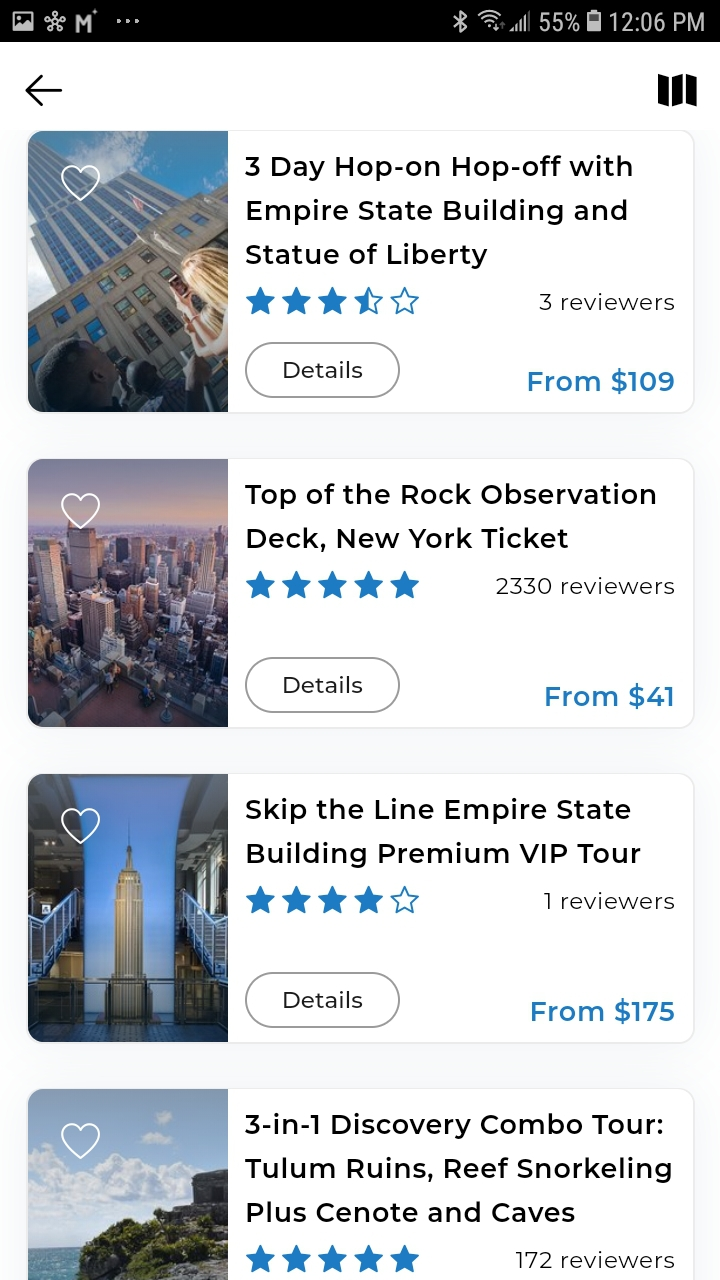Icon: (246, 885, 420, 915), (247, 1245, 421, 1274), (245, 571, 419, 600), (246, 287, 419, 316), (61, 807, 100, 844), (62, 1124, 101, 1160), (62, 494, 101, 530), (62, 165, 101, 201), (658, 75, 697, 108), (26, 75, 63, 107)
Image: (29, 131, 229, 413), (29, 775, 229, 1043), (29, 460, 229, 728), (30, 1089, 229, 1280)
Text: (244, 1113, 672, 1223), (246, 155, 652, 270), (244, 482, 656, 553), (246, 798, 642, 869), (532, 997, 675, 1025), (528, 368, 674, 395), (546, 682, 673, 710), (496, 577, 674, 595), (516, 1250, 675, 1269), (539, 293, 675, 312), (543, 892, 675, 911)
TextButton: (244, 971, 401, 1029), (244, 657, 401, 715), (245, 341, 402, 399)
UpperTaskBar: (1, 1, 720, 43)
